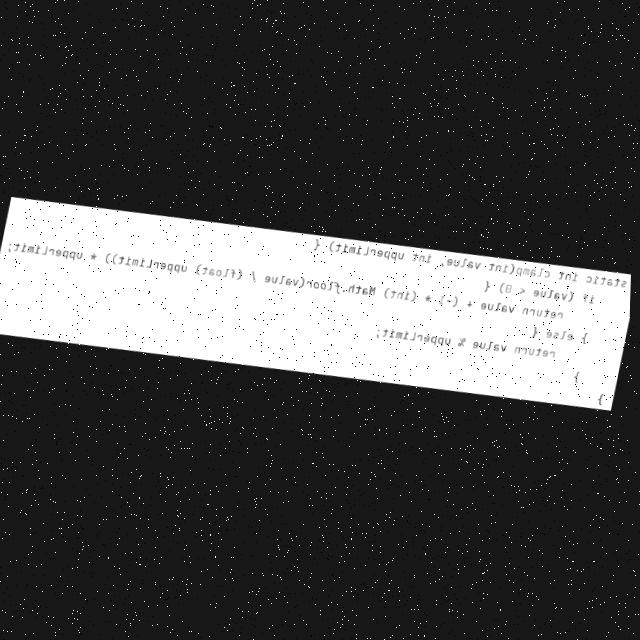code_screen: (0, 197, 631, 409)
